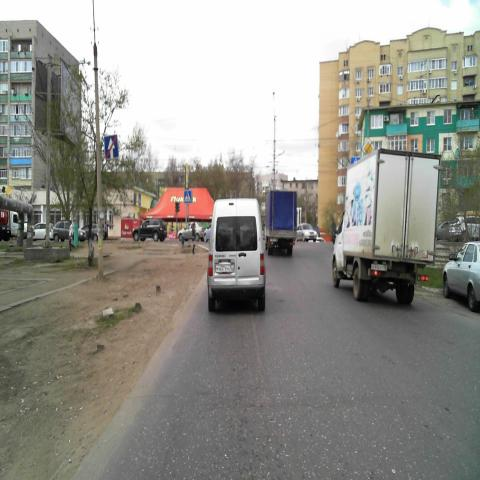2_2: (362, 137, 374, 157)
5_6: (104, 136, 118, 159)
